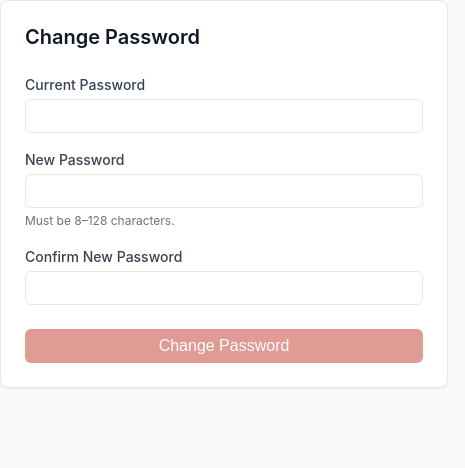
it: PasswordChangeForm › shows error message on failed password change
Type "wrongPassword" into the password field with id "current-password". click: (224, 116)
box: 25,99 -> 423,133
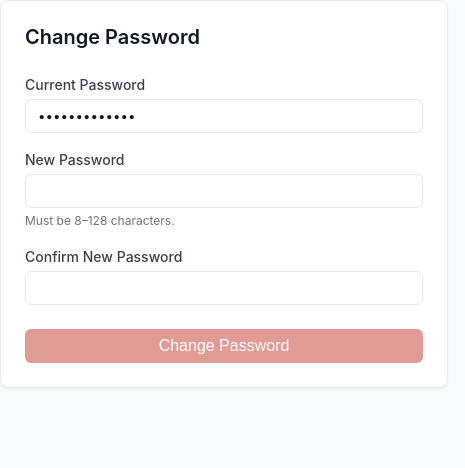
Type "newPassword123" into the password field with id "new-password". click: (224, 191)
box: 25,174 -> 423,208
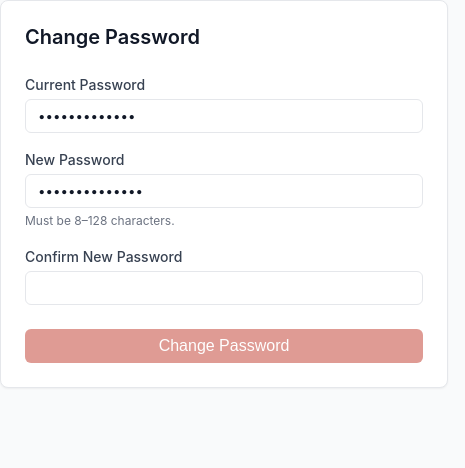
Type "newPassword123" into the password field with id "confirm-password". click: (224, 288)
box: 25,271 -> 423,305
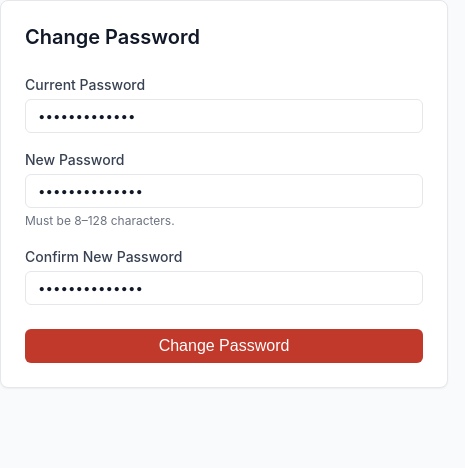
Submit the form, box 25,74 -> 423,363
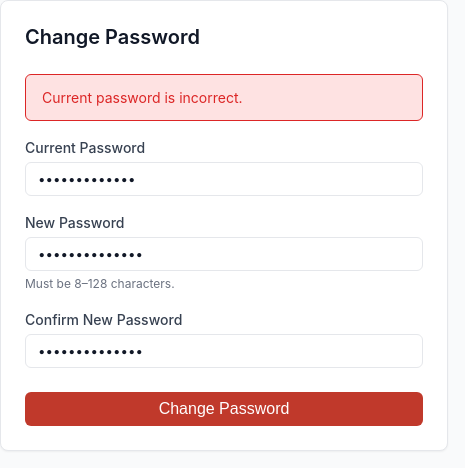
Expected: the text "Current password is incorrect." is shown, 25,74 -> 423,121
